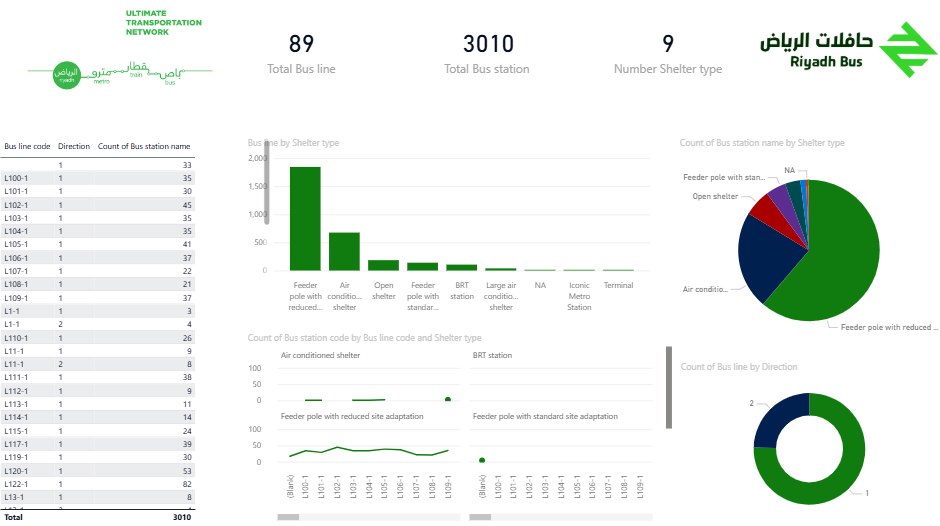

The page's visual inventory and layout, read from the dashboard file:
{"tool":"powerbi","page":{"name":" Bus Stations Analysis","canvas":[1280,720],"ordinal":2},"visuals":[{"type":"pieChart","fields":{"Category":["bus-stops.Shelter type"],"Y":["CountNonNull(bus-stops.Bus station name)"]},"box":[920.1,192.1,359.9,293.6],"z":1},{"type":"card","fields":{"Values":["Count(bus-stops.Bus line)"]},"box":[282.8,0,261.1,150.2],"z":2},{"type":"card","fields":{"Values":["Count(bus-stops.Bus station name)"]},"box":[543.9,0,244.9,150.2],"z":3},{"type":"donutChart","fields":{"Y":["Count(bus-stops.Bus line)"],"Category":["bus-stops.Direction"]},"box":[921.4,495.2,358.6,224.6],"z":4},{"type":"clusteredColumnChart","title":" Bus line by Shelter type","fields":{"Y":["CountNonNull(bus-stops.Bus line)"],"Category":["bus-stops.Shelter type"]},"box":[335.6,192.1,554.8,246.3],"z":5},{"type":"tableEx","fields":{"Values":["bus-roads-by-direction.Bus line code","bus-stops.Direction","bus-stops.Bus station name"]},"box":[0,192.1,376.2,527.7],"z":6},{"type":"lineChart","fields":{"Category":["bus-roads-by-direction.Bus line code"],"Y":["CountNonNull(bus-stops.Bus station code)"],"Rows":["bus-stops.Shelter type"]},"box":[335.6,456,584.5,263.8],"z":7},{"type":"card","fields":{"Values":["Count(bus-stops.Shelter type)"]},"box":[788.8,0,240.8,150.2],"z":8},{"type":"image","box":[0,0,335.6,150.2],"z":9},{"type":"image","box":[1029.7,0,250.3,150.2],"z":10}]}

Visuals, with their boxes in screenshot pixels (x1, y1, x2, y2), scaled from the page's 1280x720 canvas onto the 940x526 screenshot:
pieChart - bus-stops.Shelter type x CountNonNull(bus-stops.Bus station name): (676,140,939,355)
card - Count(bus-stops.Bus line): (208,0,399,110)
card - Count(bus-stops.Bus station name): (399,0,579,110)
donutChart - Count(bus-stops.Bus line) x bus-stops.Direction: (677,362,939,525)
" Bus line by Shelter type" clusteredColumnChart: (246,140,654,320)
tableEx - bus-roads-by-direction.Bus line code x bus-stops.Direction: (0,140,276,525)
lineChart - bus-roads-by-direction.Bus line code x CountNonNull(bus-stops.Bus station code): (246,333,676,525)
card - Count(bus-stops.Shelter type): (579,0,756,110)
image: (0,0,246,110)
image: (756,0,939,110)
